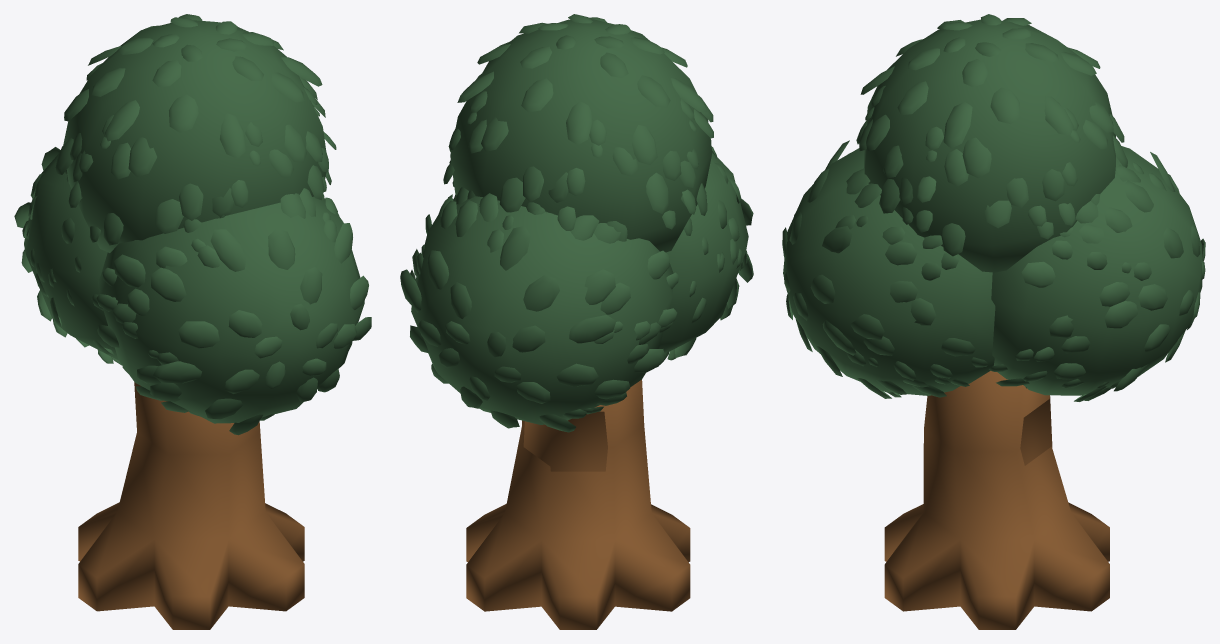
Rendered from trees.glb.
3 views of the same model, side by side, from view 1: azimuth 30°, elevation 25°; view 2: azimuth 150°, elevation 25°; view 3: azimuth 270°, elevation 25° (orthographic).
Visible parts, largest first — view 1: Trunk; view 2: Trunk; view 3: Trunk.
Part boxes in pixels (<box>): Trunk: <box>14,14,371,629</box>; Trunk: <box>400,14,753,629</box>; Trunk: <box>782,14,1205,629</box>.
Size of the model in its own units: 2.67 by 5.84 by 4.08.
